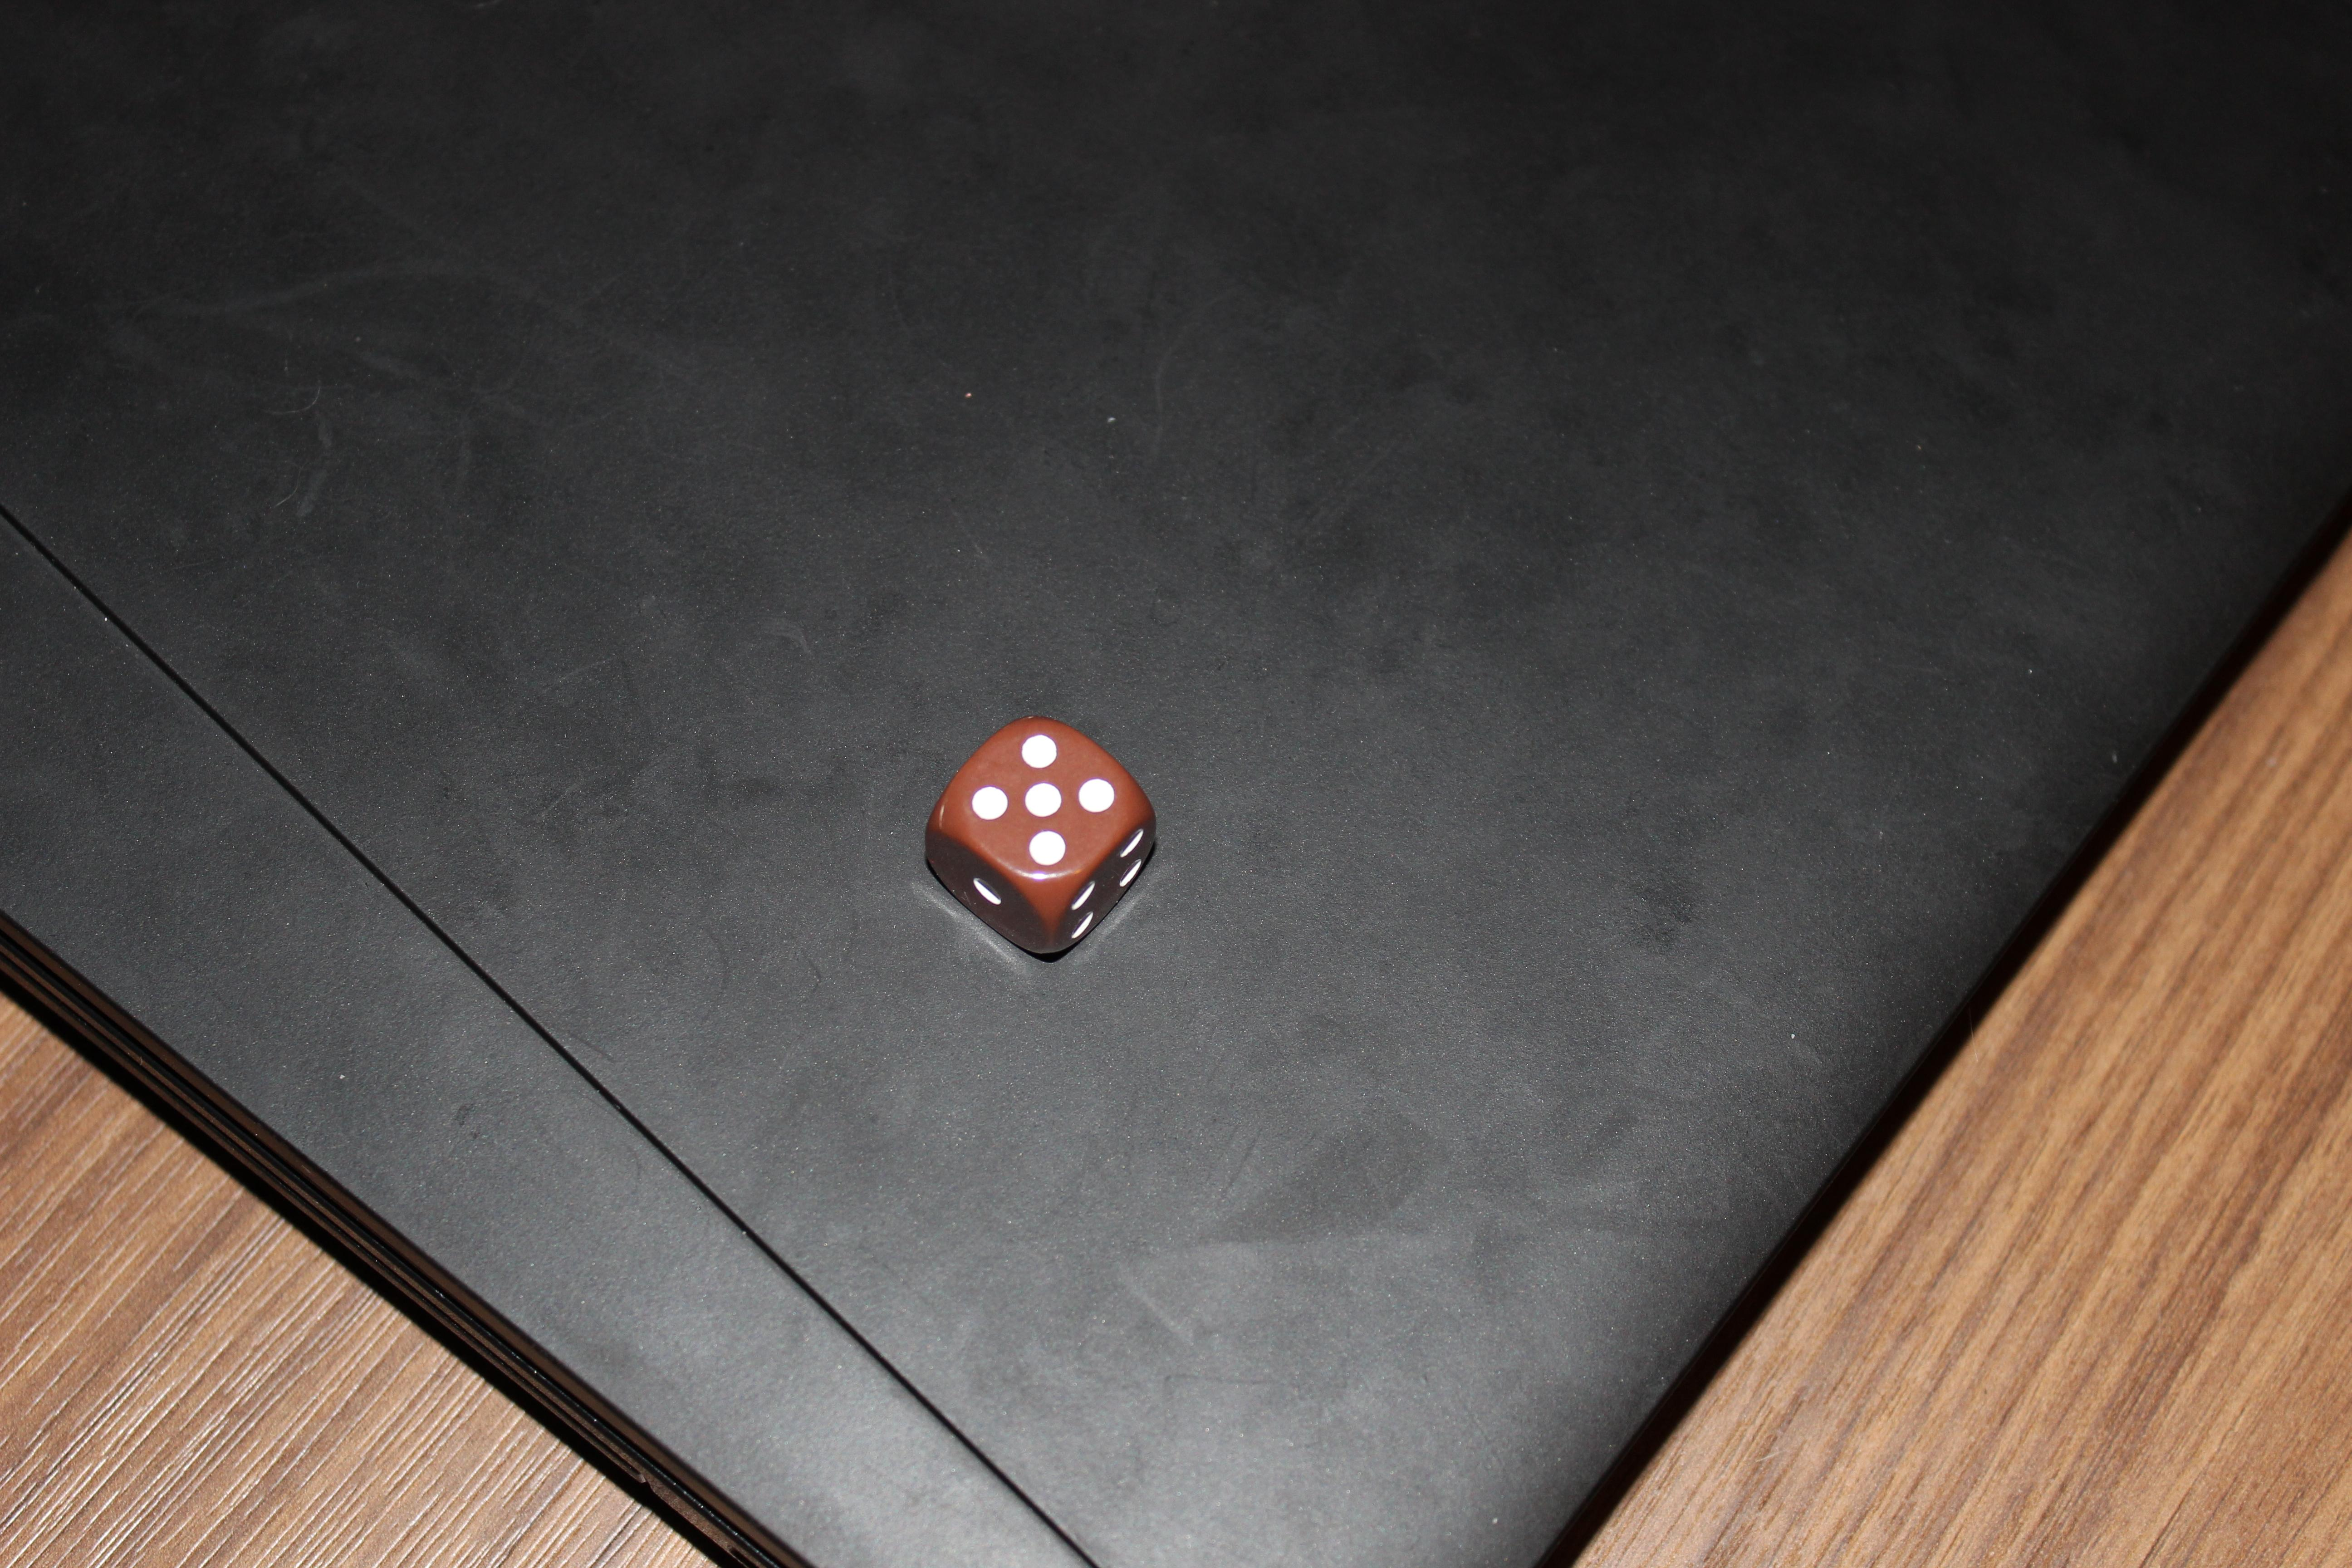brownDie: (894, 691, 1192, 991)
